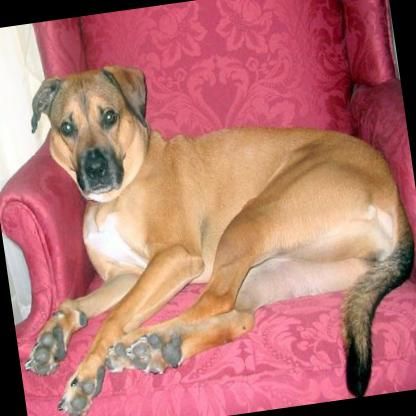boxer: (0, 23, 416, 416)
